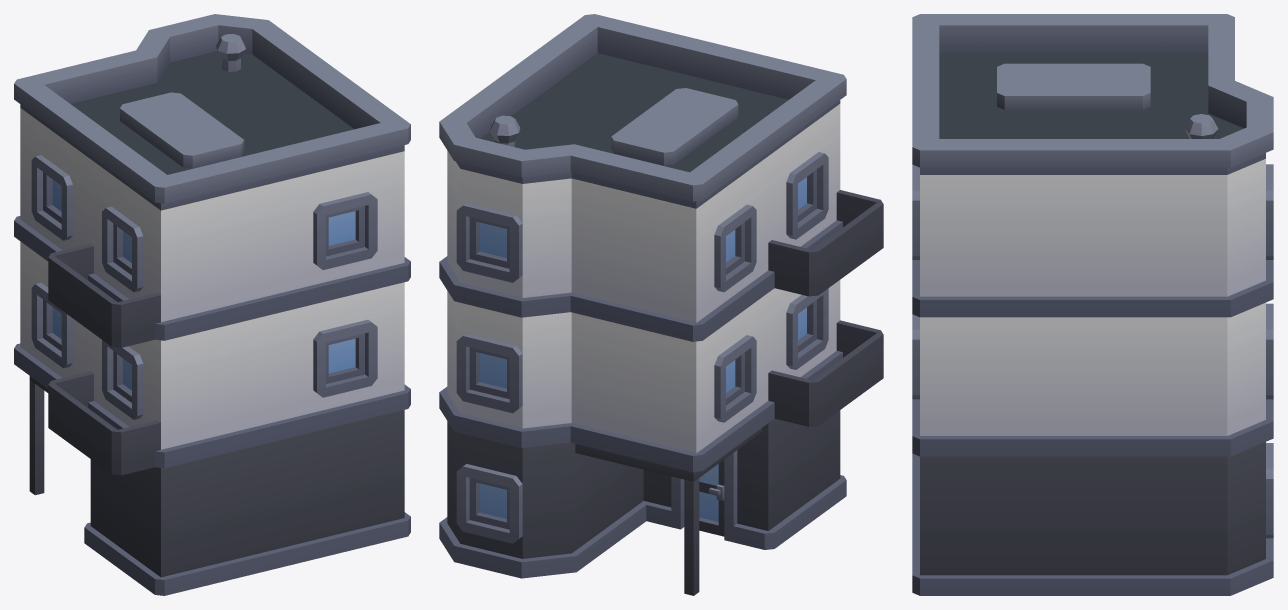
File: commercial__building-b.glb
3 renders of one model, left to right at view 1: azimuth 30°, elevation 25°; view 2: azimuth 150°, elevation 25°; view 3: azimuth 270°, elevation 25°, orthographic. The views are drawn at different scales.
Parts seen in each view (by area): view 1: building-b; view 2: building-b; view 3: building-b.
Boxes of the visible parts, x1,y1,x2,y2 form: building-b: (14,14,410,595); building-b: (439,14,883,595); building-b: (912,14,1273,595).
Bounding box in the file's own units: 0.9701 × 1.29 × 0.94.
Materials: 1 (1 with a texture image).
